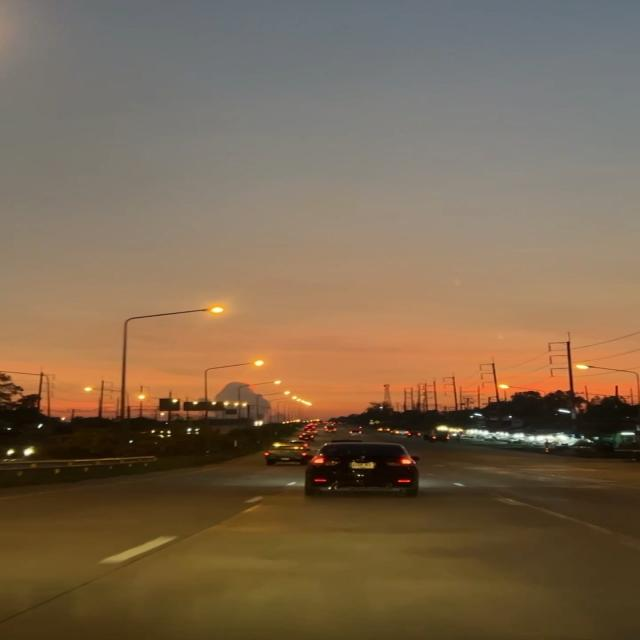Poth-hole: (0, 492, 534, 627)
